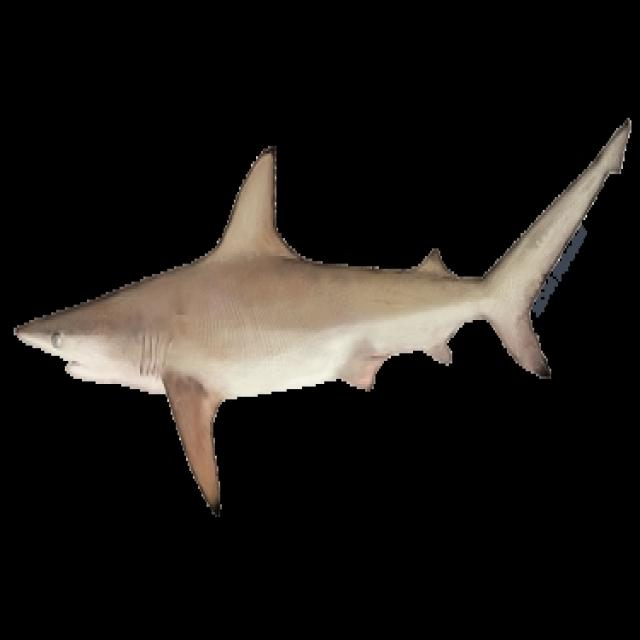gaviota: (15, 120, 628, 507)
